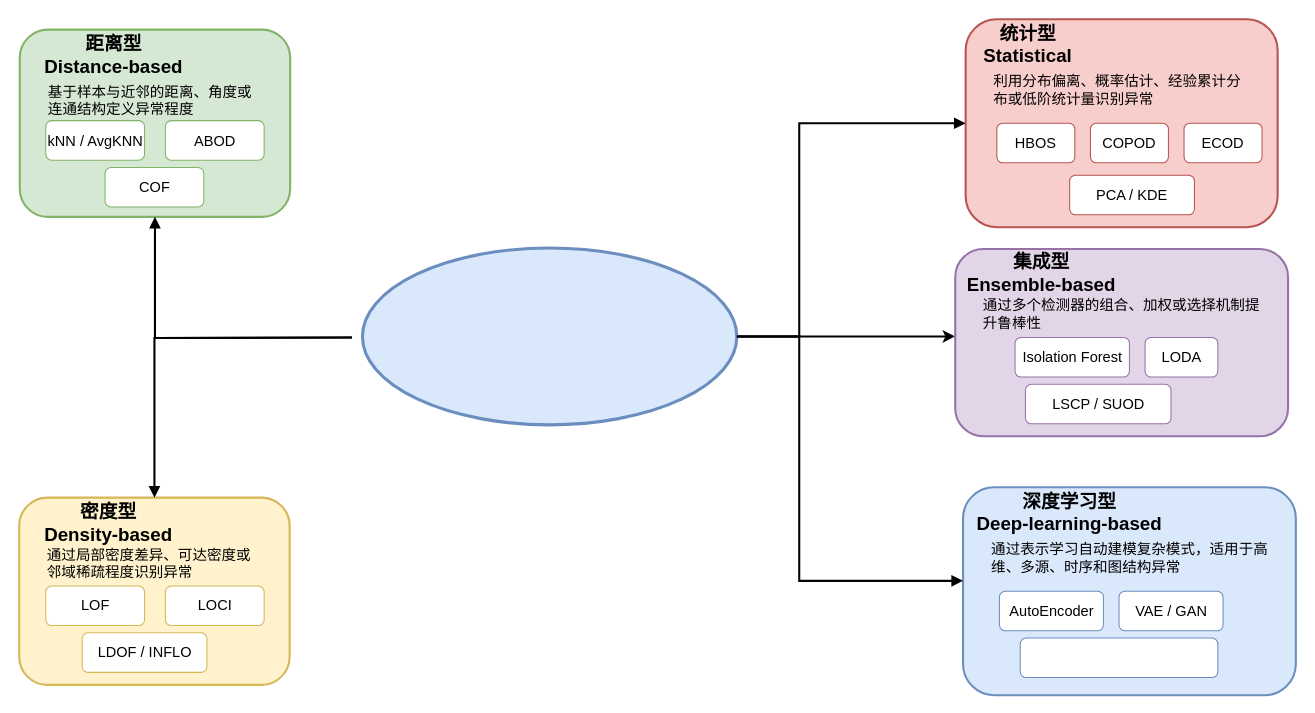
The diagram is 1315 pixels wide and 713 high, and some of its shapes have lost their labels. The shapes that lost their labels are listed below. From the top down, each one's centre as x and y in pixels, then its label:
pixel 549 336: 异常检测方法 Anomaly Detection
pixel 1118 657: GNN / Transformer / LSTM
